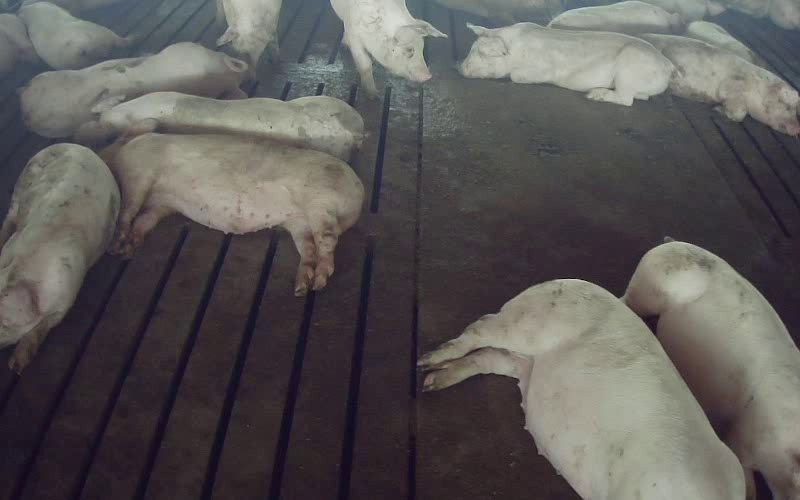pig: (418, 279, 743, 499), (101, 119, 363, 295), (623, 241, 799, 499), (0, 143, 119, 373), (21, 42, 247, 137), (75, 92, 363, 160), (459, 22, 673, 105), (640, 35, 799, 135), (330, 0, 446, 95), (19, 2, 128, 69)
